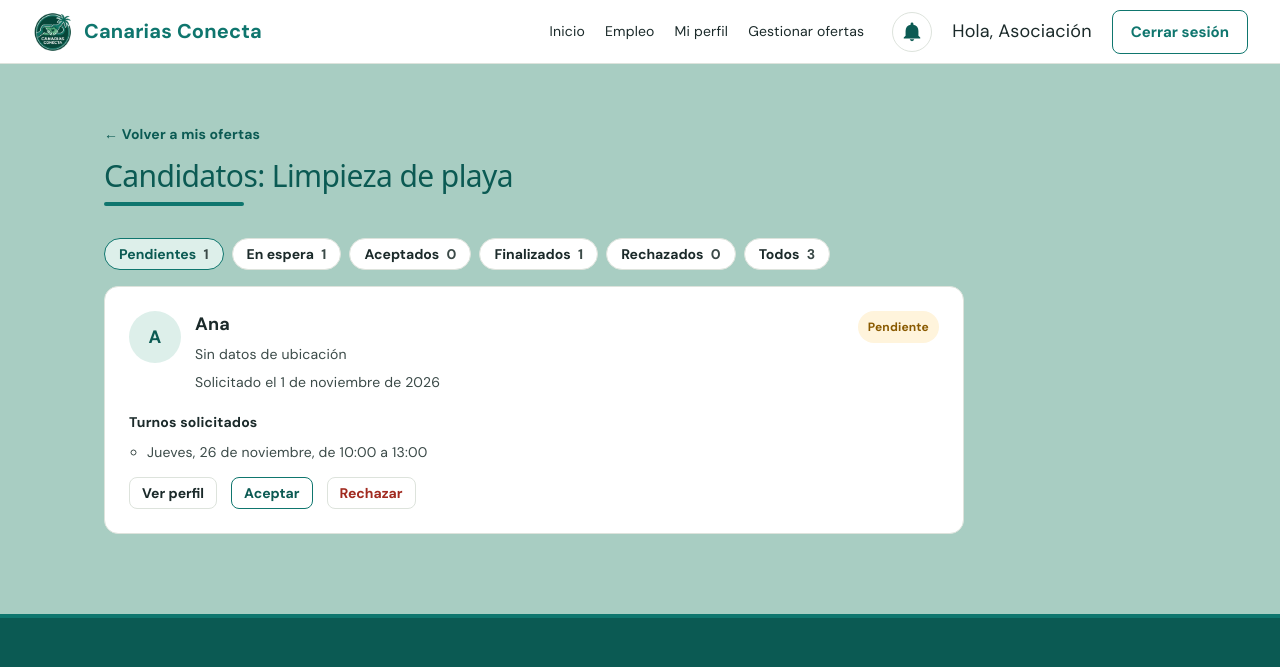
Test: Candidatos › cuenta cada estado en su pestaña y muestra la lista de espera
The image size is (1280, 667).
Expected: the tab "Finalizados 1" is shown, x1=480 y1=238 x2=598 y2=270
Click the tab "En espera 1".
click(286, 254)  # box x1=232 y1=238 x2=341 y2=270
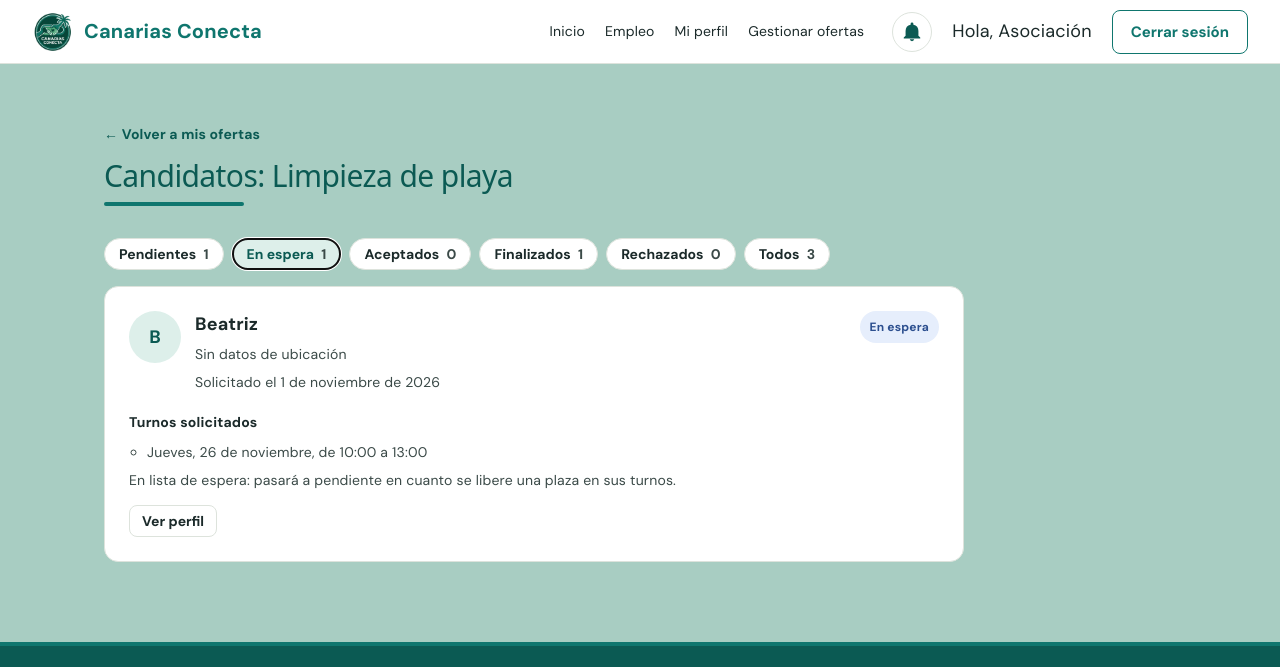
Expected: the heading "Beatriz" is shown, x1=195 y1=312 x2=258 y2=336
Expected: the text "pasará a pendiente en cuanto se libere una plaza" is shown, x1=129 y1=471 x2=676 y2=489
